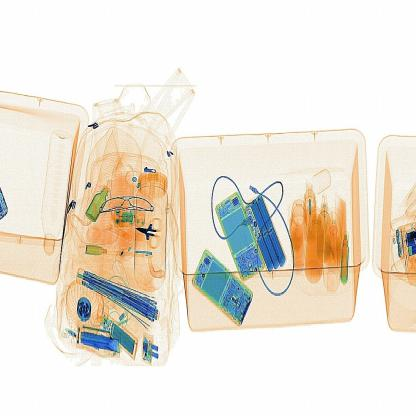gun: (135, 216, 169, 250)
